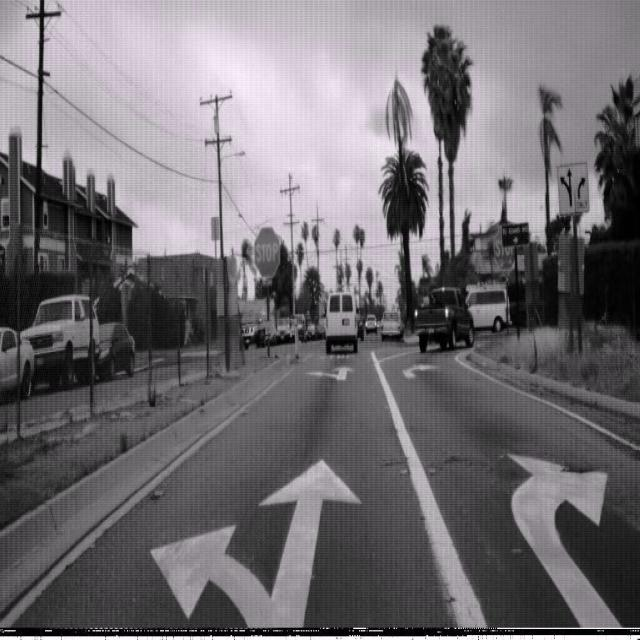stop: (253, 226, 281, 280)
